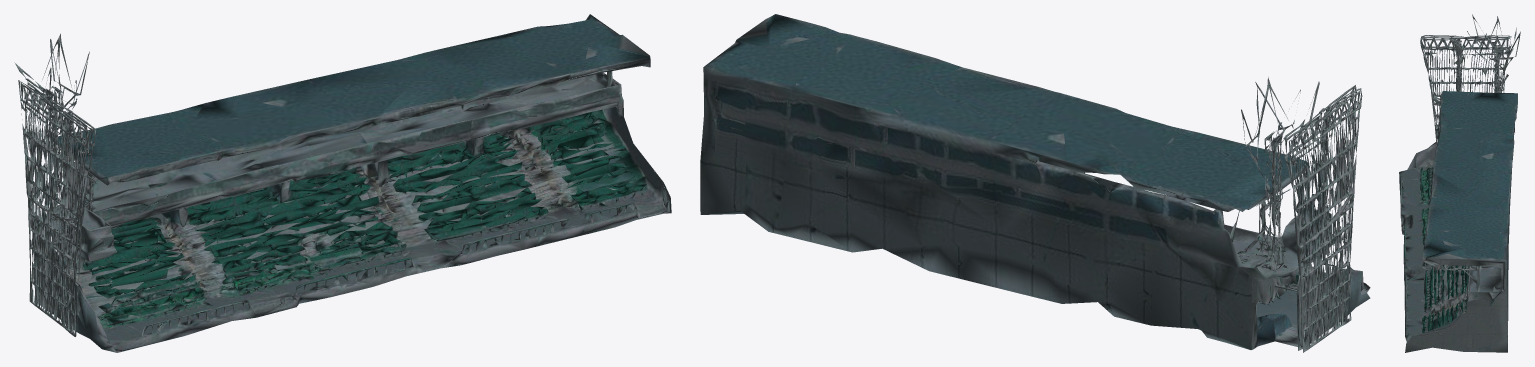
File: fcStandModuleMeshy.b34d0da4.glb
The picture shows the model from 3 angles, left to right: view 1: azimuth 30°, elevation 25°; view 2: azimuth 150°, elevation 25°; view 3: azimuth 270°, elevation 25°; orthographic projection. The views are drawn at different scales.
Size of the model in its own units: 1.9 by 0.832 by 0.5428.
Materials: 1 (1 with a texture image).
